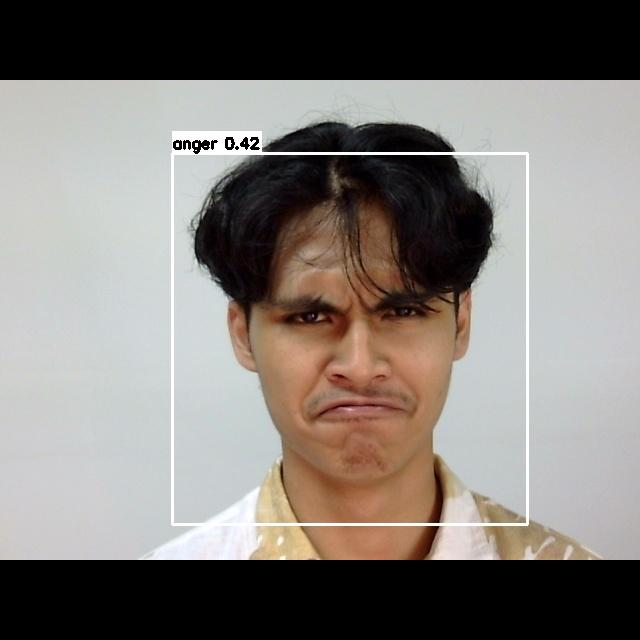Sad: (255, 265, 450, 451)
